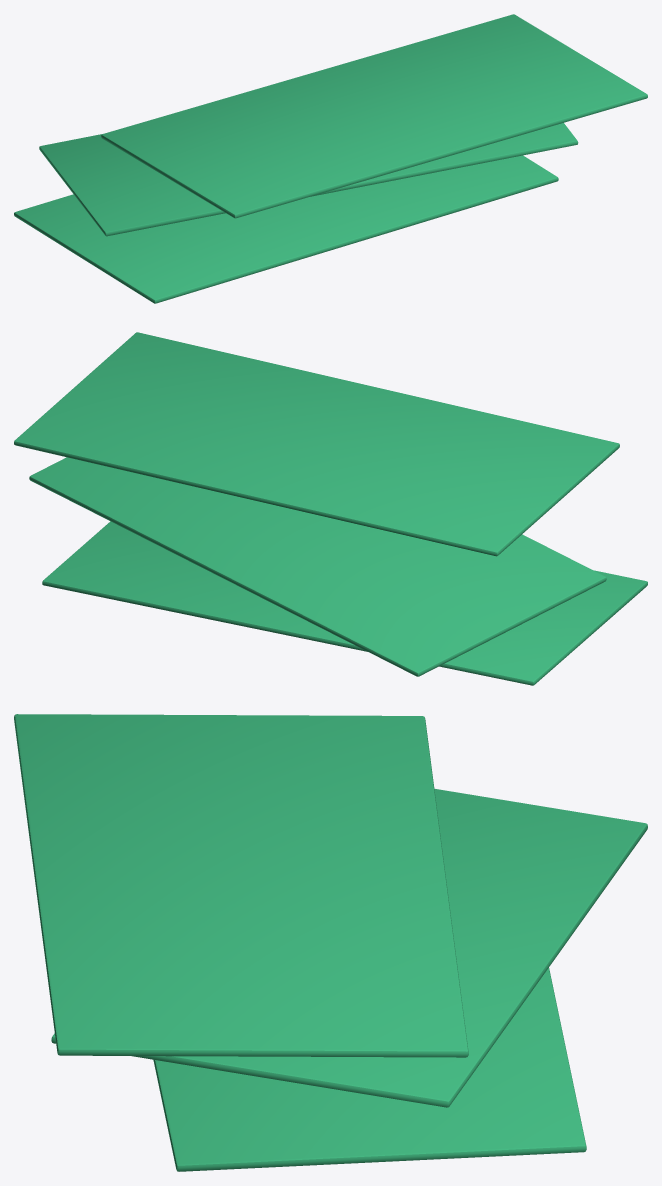
Rendered from HID-INC-009_anim.glb.
The picture shows the model from 3 angles, top to bottom: view 1: azimuth 30°, elevation 25°; view 2: azimuth 150°, elevation 25°; view 3: azimuth 270°, elevation 25°; orthographic projection. The views are drawn at different scales.
Parts seen in each view (by area): view 1: HID-INC-009_anim2, HID-INC-009_anim0, HID-INC-009_anim1; view 2: HID-INC-009_anim2, HID-INC-009_anim1, HID-INC-009_anim0; view 3: HID-INC-009_anim2, HID-INC-009_anim1, HID-INC-009_anim0.
Part boxes in pixels (bbox=[...]): HID-INC-009_anim2: bbox=[101, 14, 647, 218]; HID-INC-009_anim0: bbox=[14, 155, 558, 303]; HID-INC-009_anim1: bbox=[39, 123, 578, 236]; HID-INC-009_anim2: bbox=[14, 332, 619, 556]; HID-INC-009_anim1: bbox=[29, 457, 606, 676]; HID-INC-009_anim0: bbox=[42, 521, 647, 685]; HID-INC-009_anim2: bbox=[14, 714, 468, 1057]; HID-INC-009_anim1: bbox=[51, 788, 647, 1107]; HID-INC-009_anim0: bbox=[153, 968, 586, 1171].
Size of the model in its own units: 0.3495 by 0.0708 by 0.2308.
